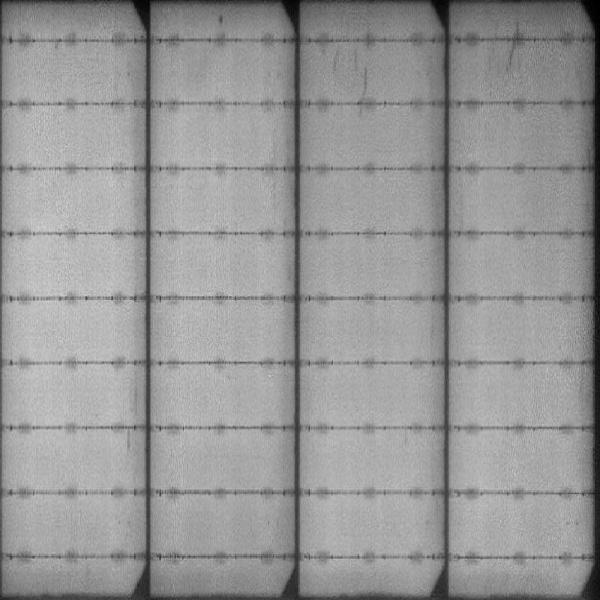scratch: (504, 18, 523, 72), (362, 26, 370, 102)
